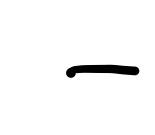minus: (65, 60, 140, 80)
